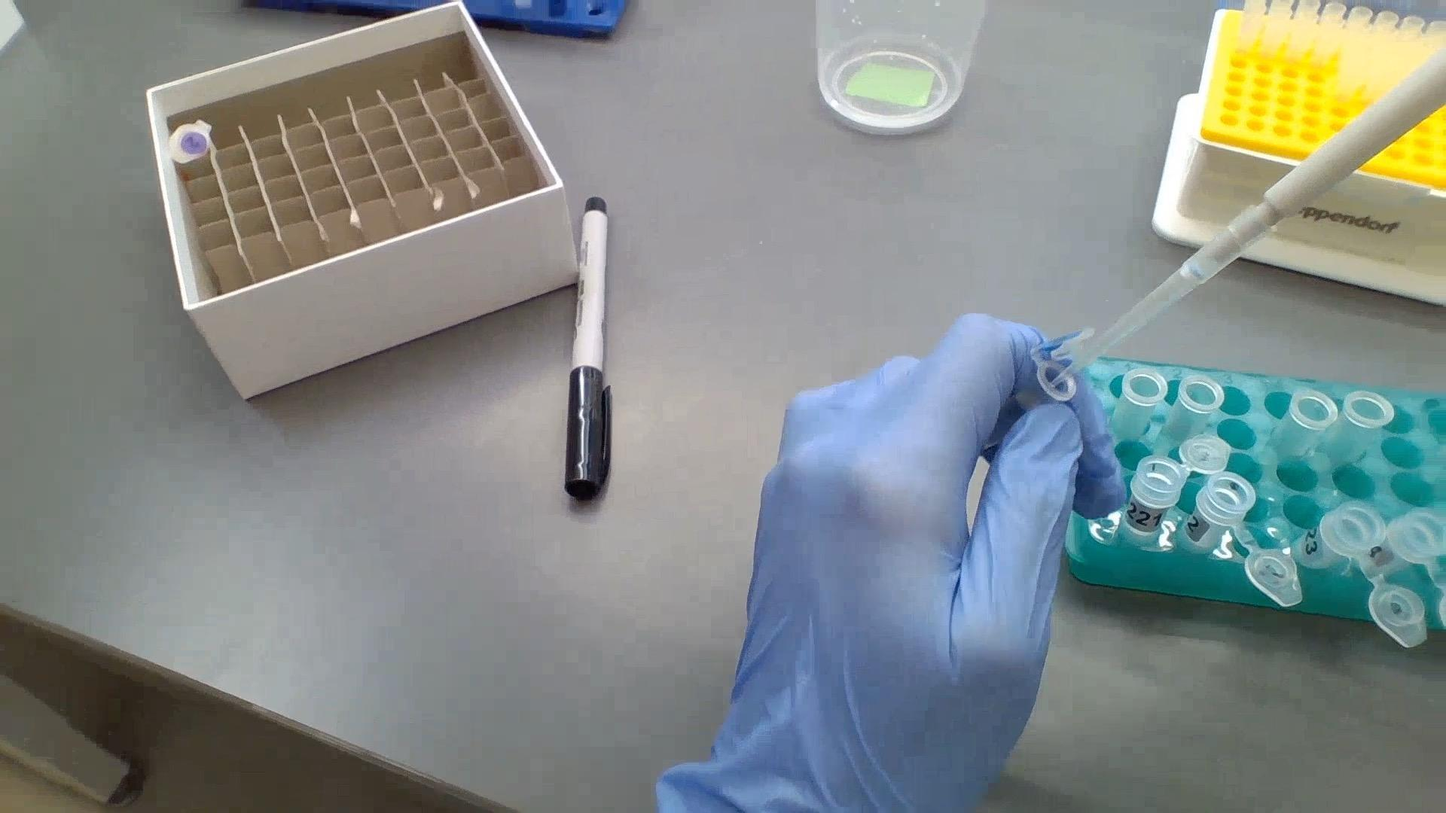pipette: (1054, 58, 1445, 388)
